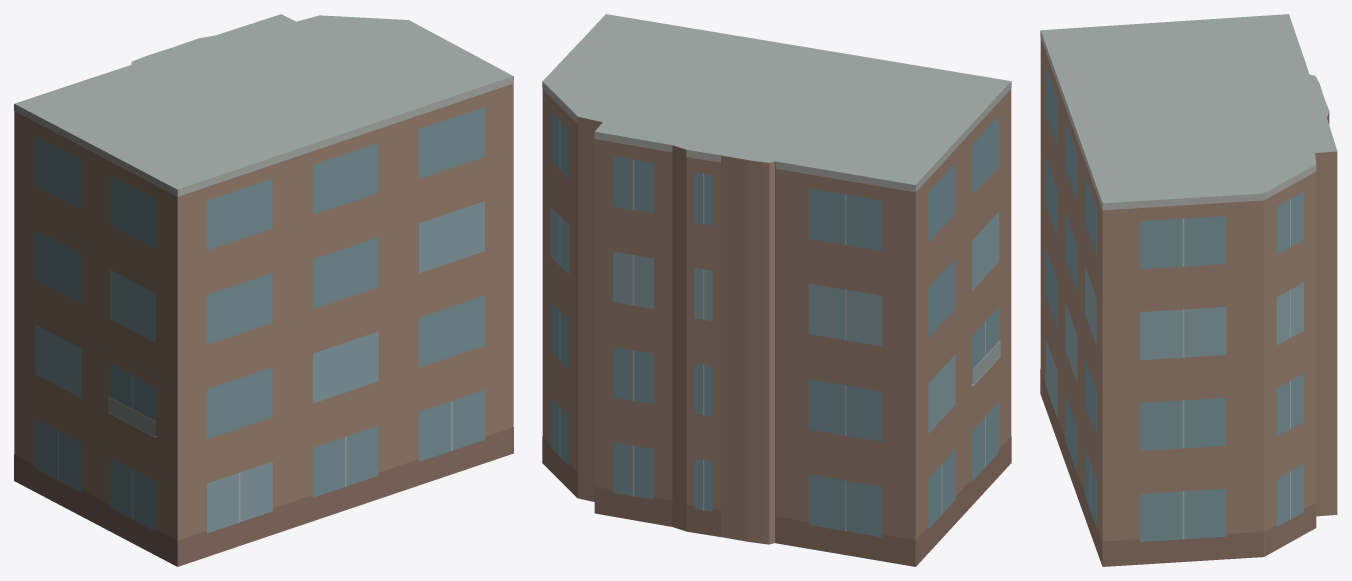
File: survey-upis-32730228.glb
3 renders of one model, left to right at view 1: azimuth 30°, elevation 25°; view 2: azimuth 150°, elevation 25°; view 3: azimuth 270°, elevation 25°, orthographic. The views are drawn at different scales.
Parts seen in each view (by area): view 1: survey-upis-32730228.tmp; view 2: survey-upis-32730228.tmp; view 3: survey-upis-32730228.tmp.
Part boxes in pixels (bbox=[...]): survey-upis-32730228.tmp: bbox=[14, 14, 513, 566]; survey-upis-32730228.tmp: bbox=[542, 14, 1011, 566]; survey-upis-32730228.tmp: bbox=[1040, 14, 1337, 566].
Bounding box in the file's own units: 14.32 × 12.8 × 9.49.
